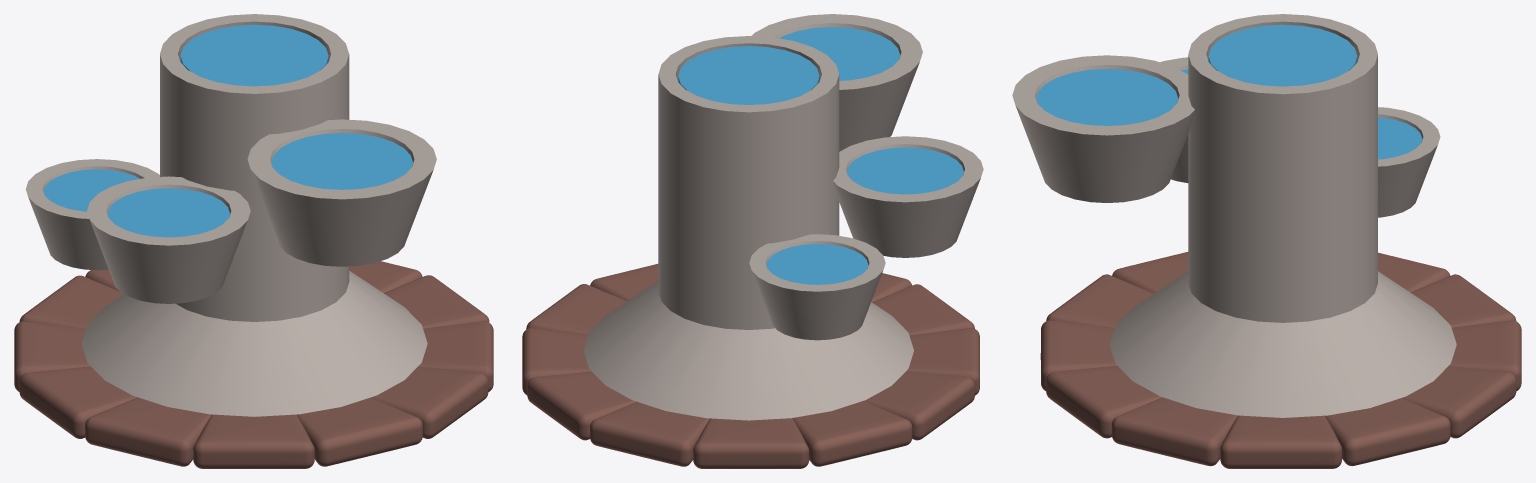
File: drinking-fountain.gltf
3 renders of one model, left to right at view 1: azimuth 30°, elevation 25°; view 2: azimuth 150°, elevation 25°; view 3: azimuth 270°, elevation 25°, orthographic. The views are drawn at different scales.
Visible parts, largest first — view 1: Cylinder 6 (×4), Cylinder 5, Cylinder 2, Cylinder 7 (×3), object 19, object 18, object 20, object 17, object 21, object 16, object 22, object 15 (+2 smaller); view 2: Cylinder 2, Cylinder 6 (×4), Cylinder 5, Cylinder 7 (×3), object 15, object 16, object 14, object 17, object 13, object 18, object 12, object 19 (+3 smaller); view 3: Cylinder 2, Cylinder 5, Cylinder 6 (×4), Cylinder 7 (×2), object 22, object 12, object 21, object 13, object 20, Cube, object 14, object 19 (+4 smaller).
Boxes of the visible parts, x1,y1,x2,y2 form: Cylinder 6 (×4): [25, 24, 436, 303]; Cylinder 5: [81, 271, 427, 416]; Cylinder 2: [160, 14, 349, 321]; Cylinder 7 (×3): [43, 133, 412, 237]; object 19: [193, 414, 314, 468]; object 18: [85, 397, 211, 466]; object 20: [296, 397, 422, 466]; object 17: [19, 366, 137, 438]; object 21: [371, 366, 488, 438]; object 16: [14, 321, 90, 391]; object 22: [418, 321, 493, 391]; object 15: [19, 275, 123, 328]; Cylinder 2: [658, 36, 839, 329]; Cylinder 6 (×4): [678, 14, 983, 340]; Cylinder 5: [583, 281, 913, 420]; Cylinder 7 (×3): [766, 27, 963, 284]; object 15: [693, 418, 809, 468]; object 16: [792, 401, 912, 466]; object 14: [590, 402, 709, 466]; object 17: [863, 371, 974, 440]; object 13: [527, 371, 636, 440]; object 18: [907, 328, 979, 395]; object 12: [522, 328, 591, 395]; object 19: [872, 284, 974, 335]; Cylinder 2: [1188, 14, 1377, 322]; Cylinder 5: [1109, 271, 1456, 417]; Cylinder 6 (×4): [1012, 24, 1440, 217]; Cylinder 7 (×2): [1036, 69, 1422, 159]; object 22: [1111, 397, 1237, 466]; object 12: [1325, 398, 1450, 466]; object 21: [1046, 365, 1162, 438]; object 13: [1402, 366, 1516, 438]; object 20: [1040, 320, 1116, 391]; Cube: [1220, 440, 1342, 468]; object 14: [1449, 320, 1521, 391]; object 19: [1046, 274, 1153, 328].
Size of the model in its own units: 3.95 by 2.86 by 4.17.
